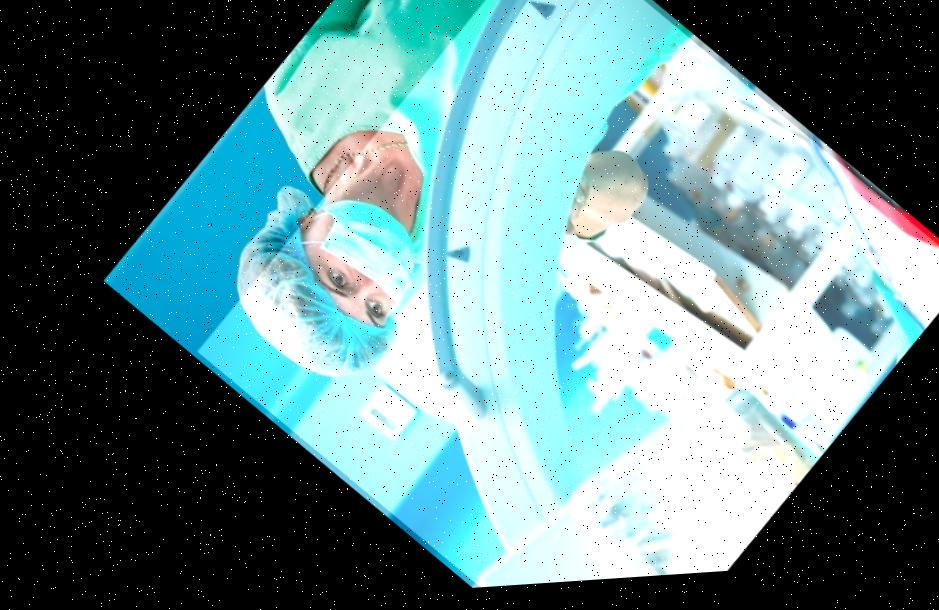C_arm: (114, 1, 939, 605)
